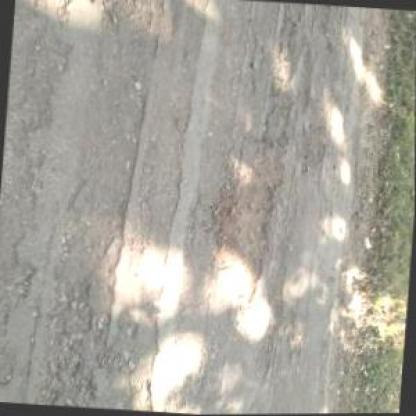pothole: (205, 123, 286, 308)
